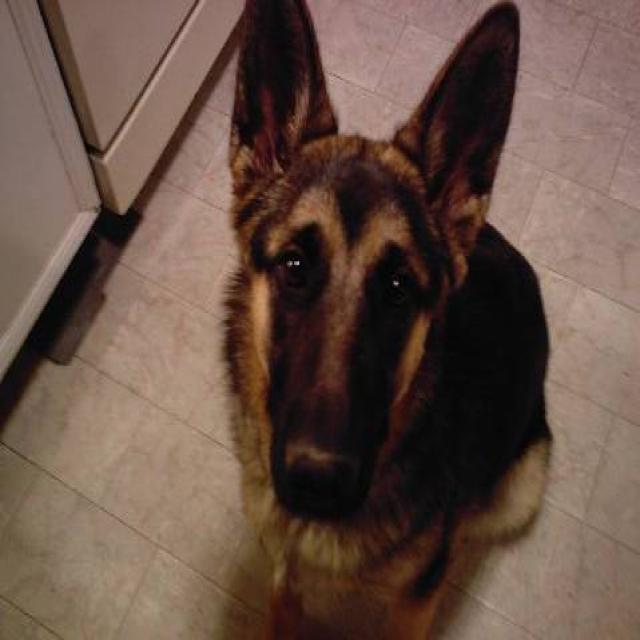dog: (219, 0, 553, 638)
